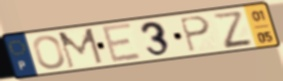3: (139, 19, 175, 59)
E: (99, 22, 144, 65)
M: (56, 27, 106, 71)
O: (31, 34, 67, 71)
P: (177, 15, 213, 54)
Z: (210, 9, 255, 50)
